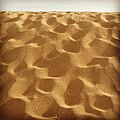human_footprint: (60, 82, 83, 106), (82, 64, 100, 86), (1, 44, 20, 63), (36, 74, 56, 92), (95, 92, 114, 110), (49, 61, 70, 76), (32, 31, 49, 48), (64, 38, 80, 54), (76, 27, 88, 44), (17, 16, 35, 27), (50, 44, 58, 58)
